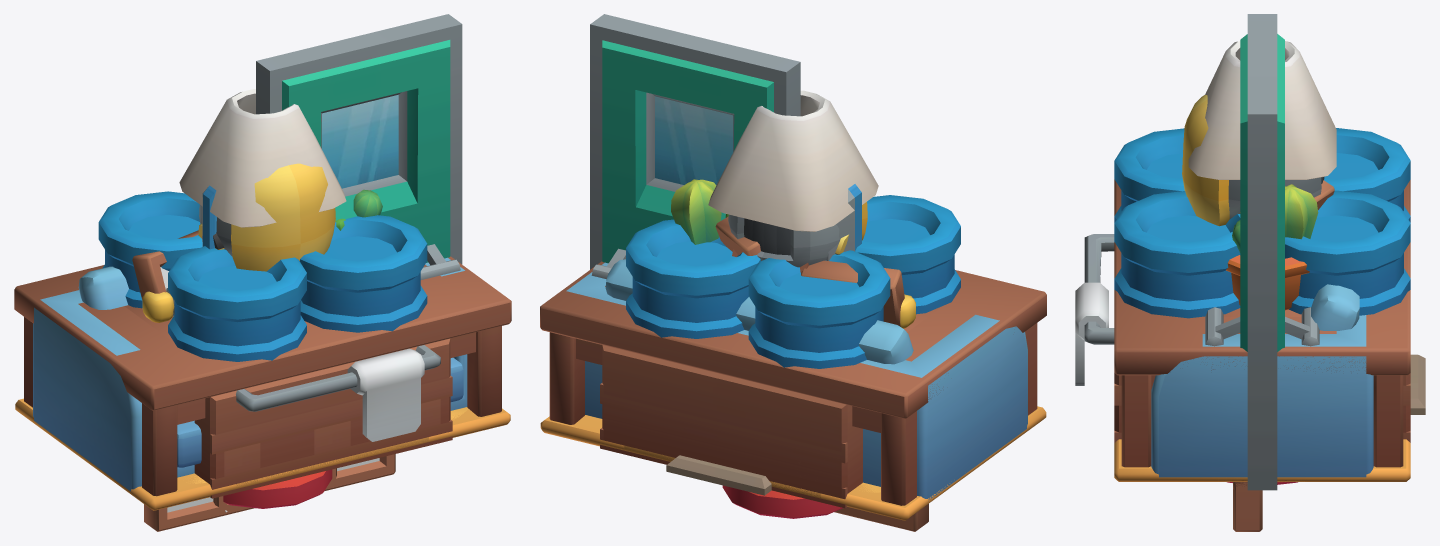
The model's file is props-area1.glb.
3 views of the same model, side by side, from view 1: azimuth 30°, elevation 25°; view 2: azimuth 150°, elevation 25°; view 3: azimuth 270°, elevation 25° (orthographic). The views are drawn at different scales.
Parts seen in each view (by area): view 1: Pallet_Small_Decorated_A, door_A, table_medium_long, couch, lamp_standing, Dummy_Head, crate, towelrail, rug_rectangle_stripes_A, pictureframe_large_B, cabinet_medium_decorated, Barrel_A (+3 smaller); view 2: Pallet_Small_Decorated_A, door_A, table_medium_long, crate, couch, lamp_standing, cabinet_medium_decorated, rug_rectangle_stripes_A, Dummy_Head, target_stand_A, Barrel_A, pictureframe_large_B (+2 smaller); view 3: Pallet_Small_Decorated_A, couch, door_A, table_medium_long, lamp_standing, Dummy_Head, towelrail, cabinet_medium_decorated, rug_rectangle_stripes_A, pictureframe_large_B, target_stand_A, crate.
Part boxes in pixels (x1,y1,x2,y2): Pallet_Small_Decorated_A: [98, 191, 452, 498]; door_A: [256, 14, 462, 279]; table_medium_long: [14, 256, 511, 496]; couch: [33, 257, 467, 491]; lamp_standing: [179, 89, 346, 227]; Dummy_Head: [198, 163, 335, 271]; crate: [194, 338, 450, 484]; towelrail: [236, 345, 440, 441]; rug_rectangle_stripes_A: [15, 398, 510, 510]; pictureframe_large_B: [144, 454, 395, 531]; cabinet_medium_decorated: [124, 189, 382, 342]; Barrel_A: [223, 469, 332, 508]; Pallet_Small_Decorated_A: [600, 195, 960, 508]; door_A: [590, 14, 800, 279]; table_medium_long: [540, 261, 1046, 505]; crate: [602, 345, 862, 503]; couch: [566, 259, 1027, 499]; lamp_standing: [708, 90, 878, 231]; cabinet_medium_decorated: [671, 179, 942, 332]; rug_rectangle_stripes_A: [540, 406, 1046, 520]; Dummy_Head: [728, 202, 867, 267]; target_stand_A: [666, 184, 861, 495]; Barrel_A: [722, 485, 842, 518]; pictureframe_large_B: [834, 504, 928, 531]; Pallet_Small_Decorated_A: [1114, 128, 1410, 442]; couch: [1151, 284, 1373, 477]; door_A: [1205, 14, 1319, 490]; table_medium_long: [1114, 179, 1410, 467]; lamp_standing: [1188, 41, 1336, 179]; Dummy_Head: [1182, 95, 1324, 226]; towelrail: [1075, 234, 1114, 385]; cabinet_medium_decorated: [1202, 184, 1318, 316]; rug_rectangle_stripes_A: [1114, 439, 1410, 481]; pictureframe_large_B: [1233, 482, 1262, 531]; target_stand_A: [1410, 354, 1425, 414]; crate: [1114, 373, 1410, 432].
Bounding box in the file's own units: 3.1 × 3.4 × 2.36.
4 materials, 4 textured.
